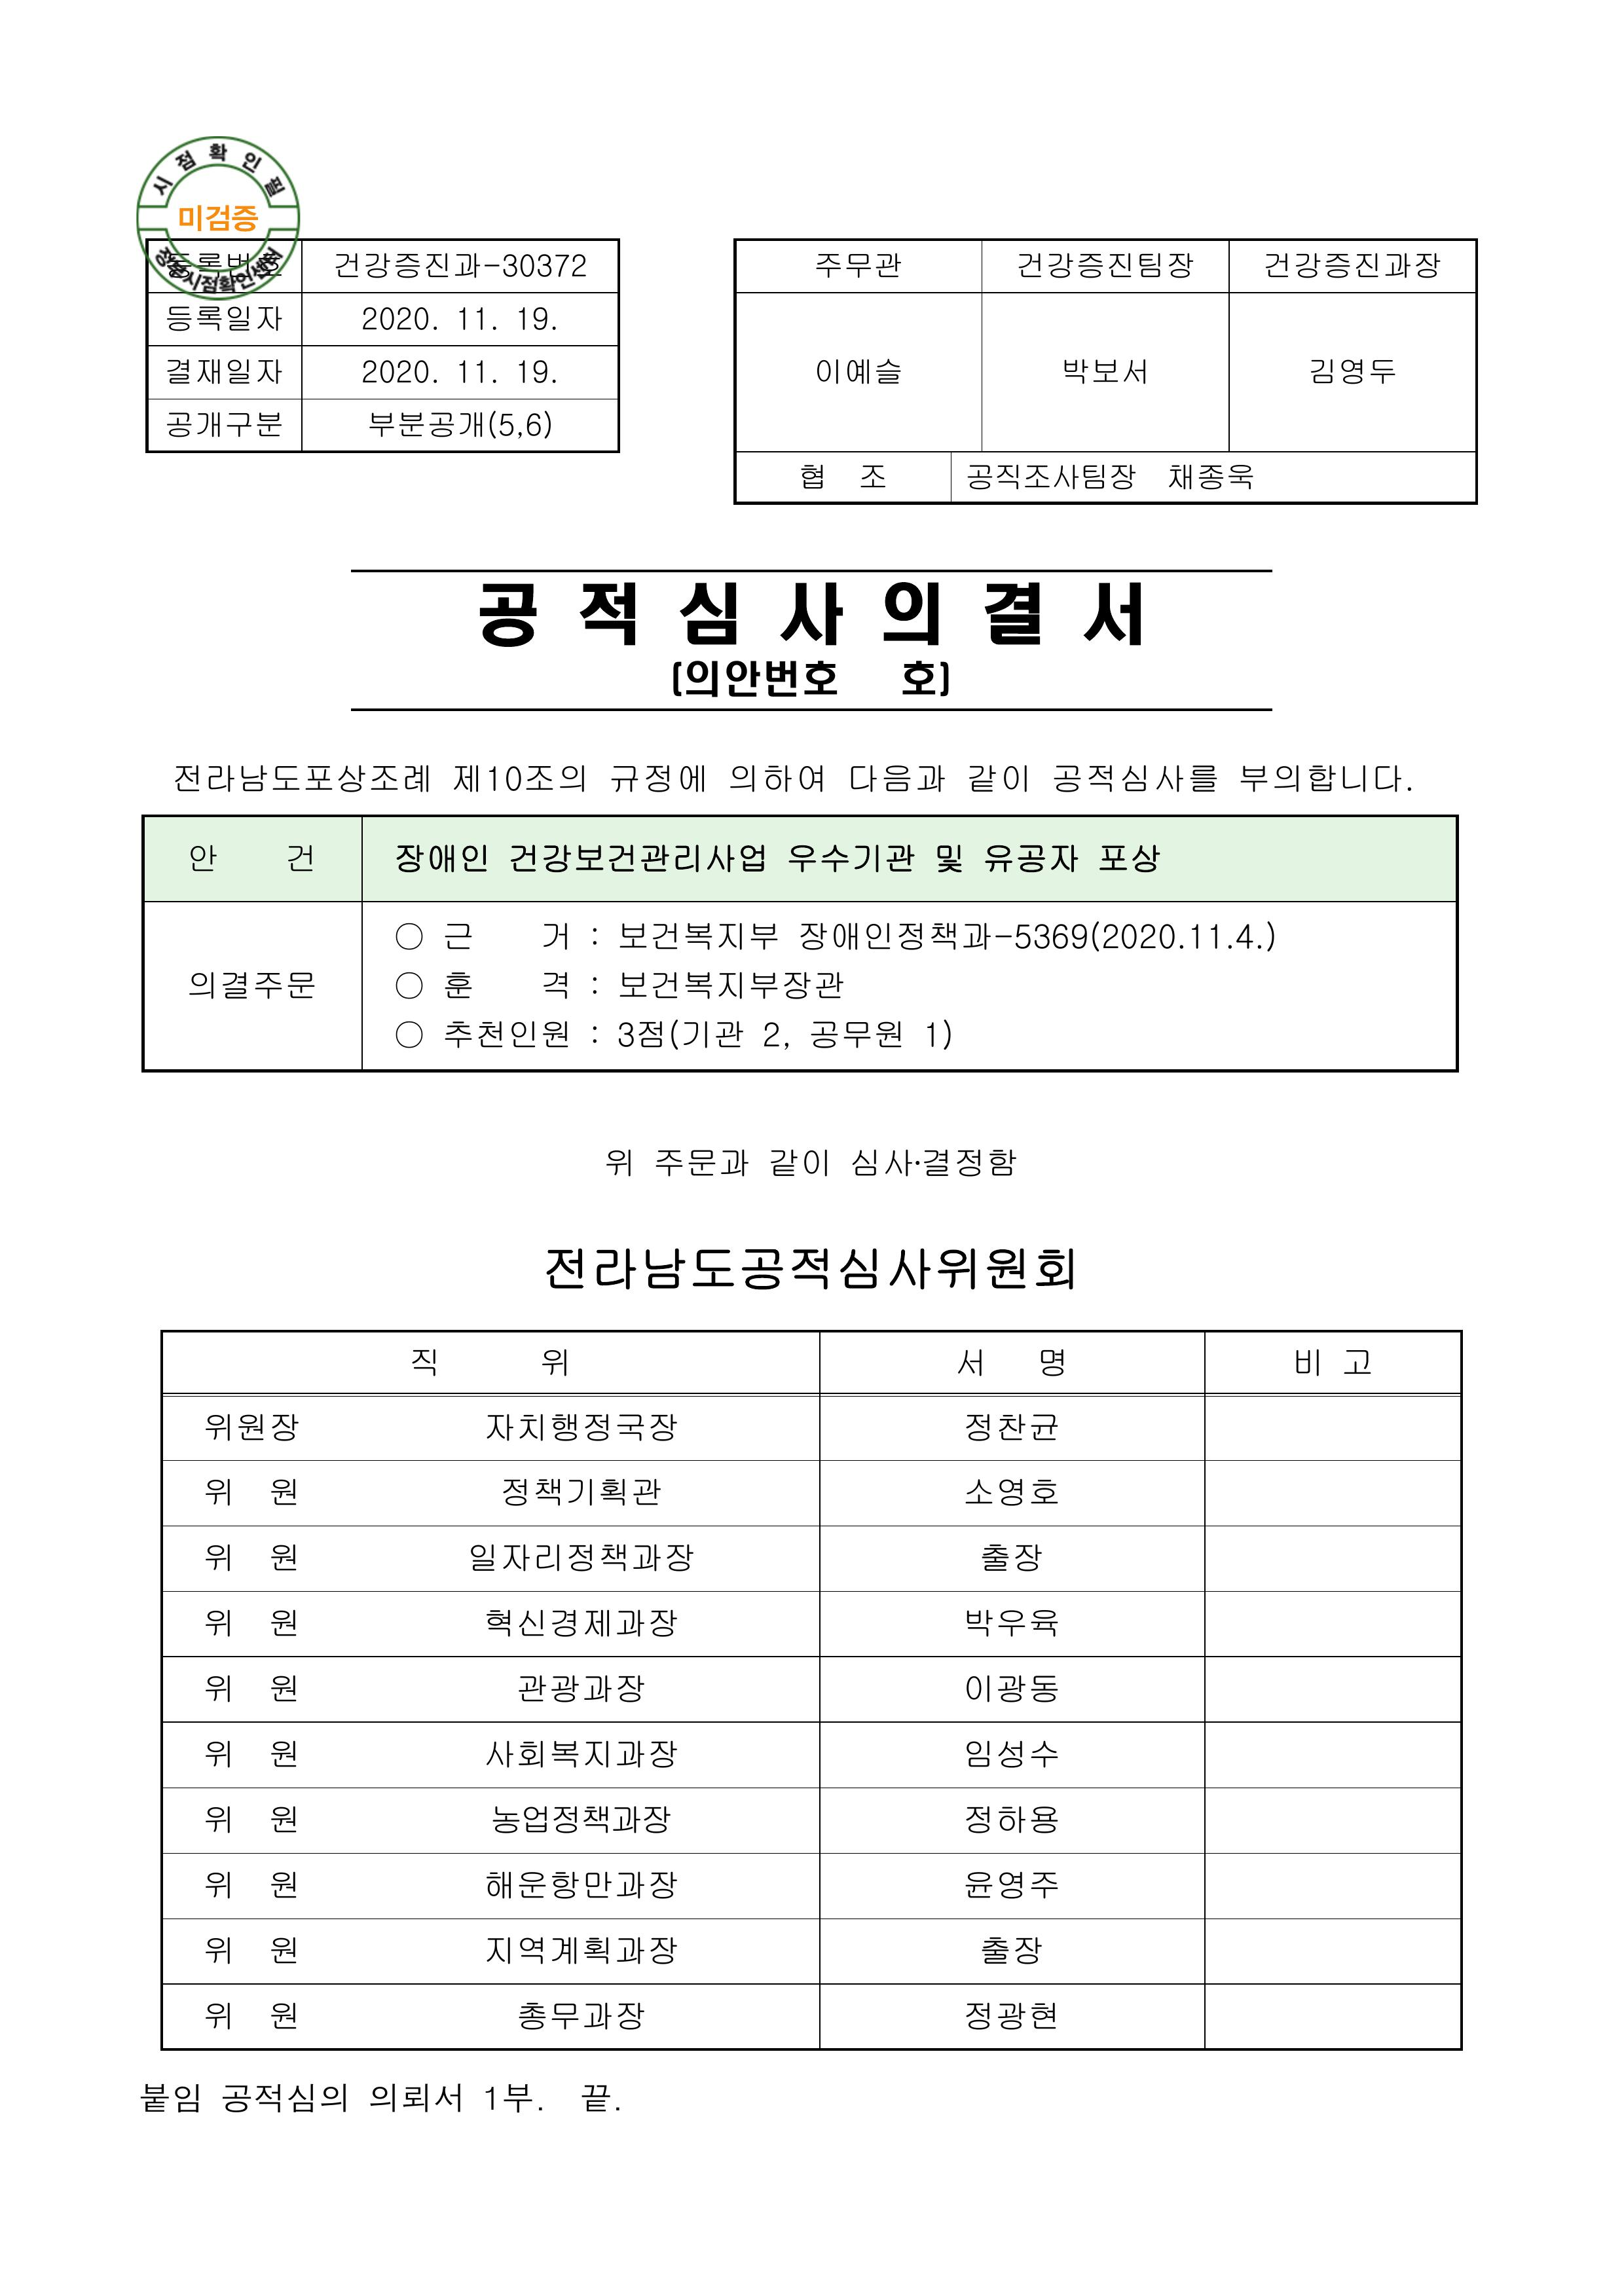t: (476, 573, 1148, 655), (541, 1244, 1076, 1299), (796, 917, 1276, 954), (506, 838, 766, 879), (172, 761, 434, 796), (666, 655, 856, 703), (469, 1538, 691, 1575), (617, 968, 845, 1003), (483, 1603, 678, 1643), (483, 1864, 678, 1905), (786, 838, 968, 879), (979, 838, 1162, 879), (483, 1734, 678, 1771), (480, 1409, 678, 1444), (480, 1933, 678, 1968), (487, 1799, 671, 1836), (1014, 246, 1193, 283), (1262, 246, 1441, 283), (329, 246, 499, 283), (965, 459, 1141, 494), (1237, 761, 1413, 796), (845, 1144, 1018, 1179), (499, 1473, 663, 1509), (366, 409, 555, 441), (617, 917, 779, 954), (1051, 761, 1216, 796), (613, 1014, 749, 1054), (186, 965, 315, 1003), (448, 761, 589, 796), (218, 2079, 352, 2116), (441, 1014, 569, 1051), (517, 1996, 645, 2033), (517, 1671, 645, 1706), (165, 300, 283, 337), (165, 404, 283, 441), (805, 1017, 910, 1056), (606, 761, 710, 800), (165, 355, 283, 387), (390, 838, 490, 875), (649, 1144, 752, 1179), (961, 1734, 1058, 1771), (961, 1799, 1058, 1836), (961, 1868, 1058, 1905), (961, 1996, 1058, 2033), (369, 2079, 466, 2116), (724, 761, 824, 796), (845, 761, 946, 796), (204, 1409, 301, 1444), (961, 1409, 1058, 1444), (961, 1603, 1058, 1638), (961, 1671, 1058, 1706), (1162, 459, 1255, 494), (176, 200, 258, 237), (889, 655, 953, 703), (499, 246, 589, 279), (1058, 355, 1148, 387), (1306, 355, 1396, 387), (359, 300, 441, 334), (814, 355, 900, 387), (359, 355, 441, 387), (814, 251, 903, 279), (961, 1473, 1028, 1509), (800, 462, 886, 490), (965, 761, 1033, 796), (975, 1933, 1044, 1968), (979, 1538, 1044, 1575), (766, 1144, 831, 1179), (139, 2079, 200, 2116), (953, 1344, 1014, 1379), (480, 2079, 538, 2116), (452, 355, 506, 387), (538, 917, 580, 954), (576, 2079, 617, 2116), (513, 300, 555, 334), (455, 304, 501, 334), (204, 1603, 237, 1643), (513, 355, 555, 387), (204, 1473, 239, 1509), (204, 1734, 239, 1771), (204, 1996, 239, 2033), (1033, 1344, 1069, 1379), (756, 1017, 793, 1051), (1290, 1344, 1327, 1378), (538, 968, 576, 1000), (917, 1017, 953, 1051), (204, 1671, 237, 1706), (204, 1803, 239, 1836), (265, 1473, 297, 1509), (265, 1734, 297, 1771), (265, 1996, 297, 2033), (204, 1541, 237, 1575), (265, 1671, 297, 1706), (204, 1868, 239, 1900), (204, 1933, 239, 1965), (190, 842, 221, 875), (283, 842, 315, 875), (1025, 1478, 1058, 1509), (265, 1541, 297, 1575), (265, 1803, 297, 1836), (603, 1147, 634, 1179), (265, 1868, 297, 1900), (1338, 1348, 1369, 1378), (269, 1606, 297, 1638), (269, 1933, 297, 1965), (541, 1348, 569, 1378)
